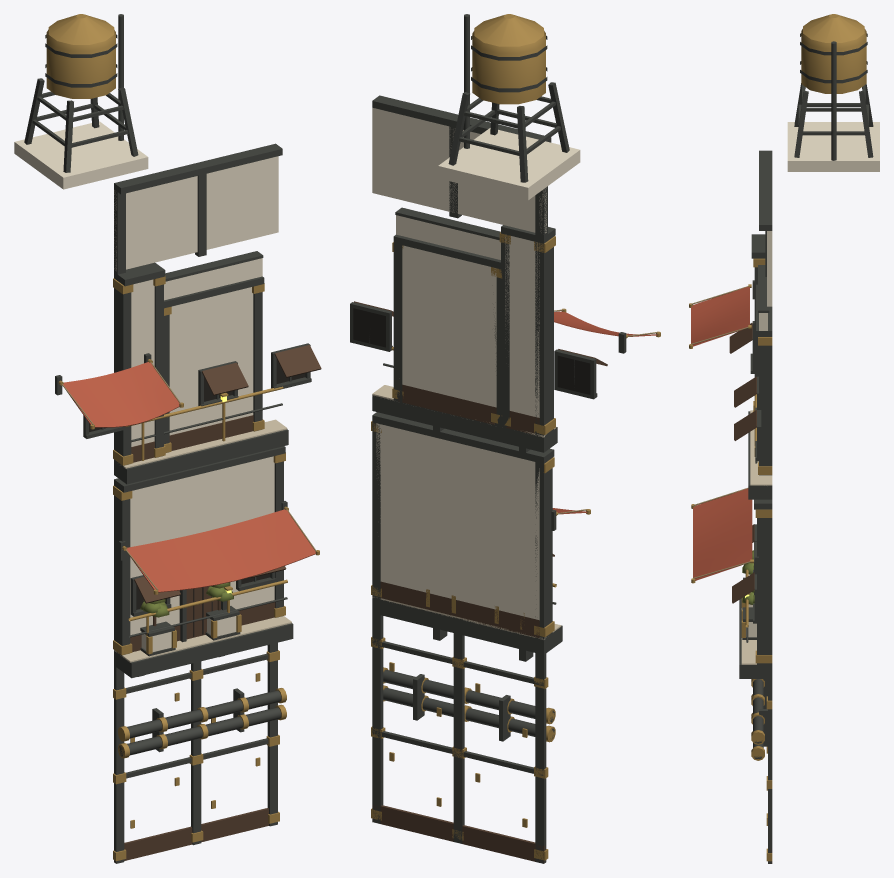
Rendered from terrace_4.glb.
3 views of the same model, side by side, from view 1: azimuth 30°, elevation 25°; view 2: azimuth 150°, elevation 25°; view 3: azimuth 270°, elevation 25° (orthographic). The views are drawn at different scales.
Parts seen in each view (by area): view 1: terrace_4; view 2: terrace_4; view 3: terrace_4.
Boxes of the visible parts, x1,y1,x2,y2 form: terrace_4: (14,14,321,863); terrace_4: (350,14,660,863); terrace_4: (689,14,879,863).
Size of the model in its own units: 6.32 by 19.43 by 4.35.
